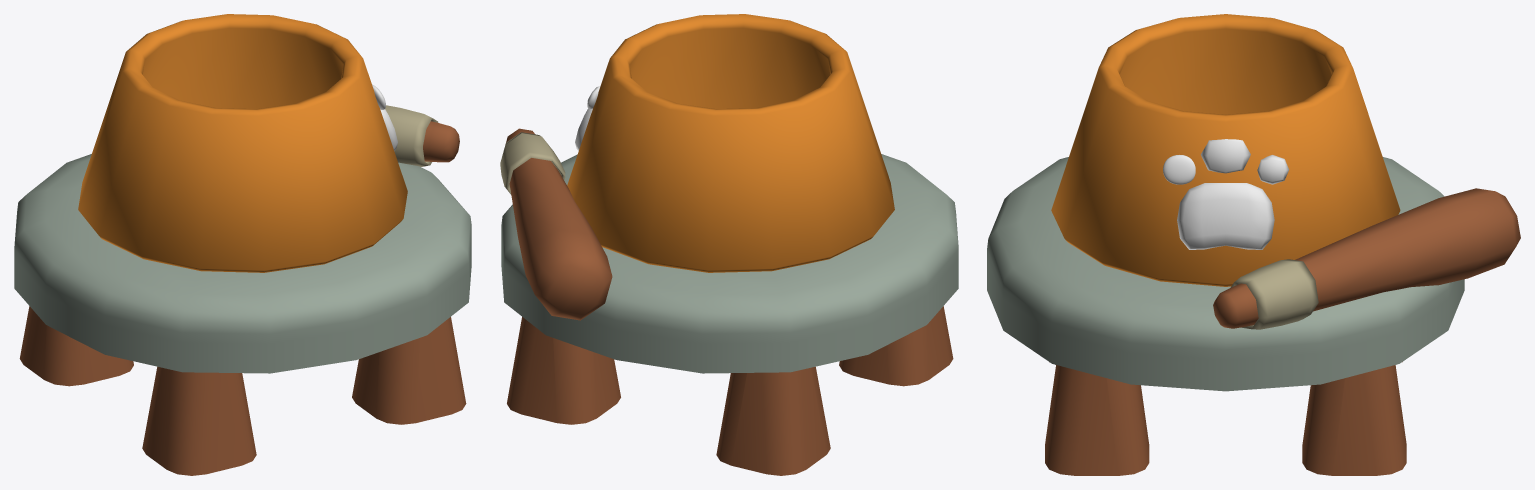
File: Bonk_Box.fbx
3 views of the same model, side by side, from view 1: azimuth 30°, elevation 25°; view 2: azimuth 150°, elevation 25°; view 3: azimuth 270°, elevation 25° (orthographic). The views are drawn at different scales.
Parts seen in each view (by area): view 1: Cylinder, Cube, Cube.008, Cube.031, Cube.030; view 2: Cylinder, Cube, Cube.008, Cube.030, Cube.031; view 3: Cylinder, Cube, Cube.008, Cube.030, Cube.001, Cube.031, Cube.005, Cube.006, Cube.007.
Boxes of the visible parts, box(x1,y1,x2,y2) form: Cylinder: box(78, 14, 407, 272); Cube: box(14, 154, 471, 373); Cube.008: box(19, 306, 466, 475); Cube.031: box(385, 105, 438, 166); Cube.030: box(423, 121, 459, 162); Cylinder: box(567, 14, 894, 272); Cube: box(501, 154, 958, 373); Cube.008: box(507, 306, 953, 475); Cube.030: box(506, 128, 612, 320); Cube.031: box(500, 132, 565, 194); Cylinder: box(1051, 14, 1400, 286); Cube: box(987, 157, 1464, 391); Cube.008: box(1045, 362, 1406, 475); Cube.030: box(1213, 188, 1520, 328); Cube.001: box(1177, 183, 1274, 249); Cube.031: box(1230, 259, 1318, 329); Cube.005: box(1201, 139, 1250, 173); Cube.006: box(1163, 155, 1195, 184); Cube.007: box(1257, 155, 1289, 184).
Size of the model in its own units: 1255 by 918 by 1326.
